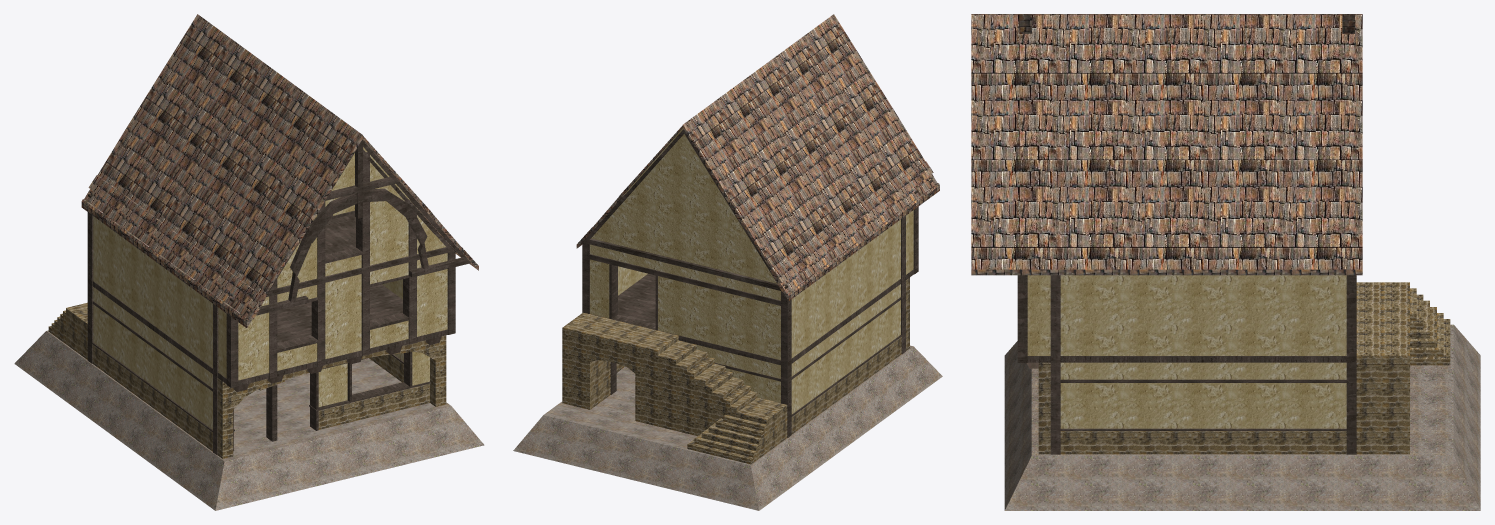
The model's file is houses_cityhouse1.glb.
3 renders of one model, left to right at view 1: azimuth 30°, elevation 25°; view 2: azimuth 150°, elevation 25°; view 3: azimuth 270°, elevation 25°, orthographic. The views are drawn at different scales.
Visible parts, largest first — view 1: cityhouse1; view 2: cityhouse1; view 3: cityhouse1.
Boxes of the visible parts, <box> form: cityhouse1: <box>14,14,484,510</box>; cityhouse1: <box>513,14,942,510</box>; cityhouse1: <box>971,14,1480,510</box>.
Size of the model in its own units: 13.63 by 17.11 by 18.88.
Materials: 6 (6 with a texture image).
